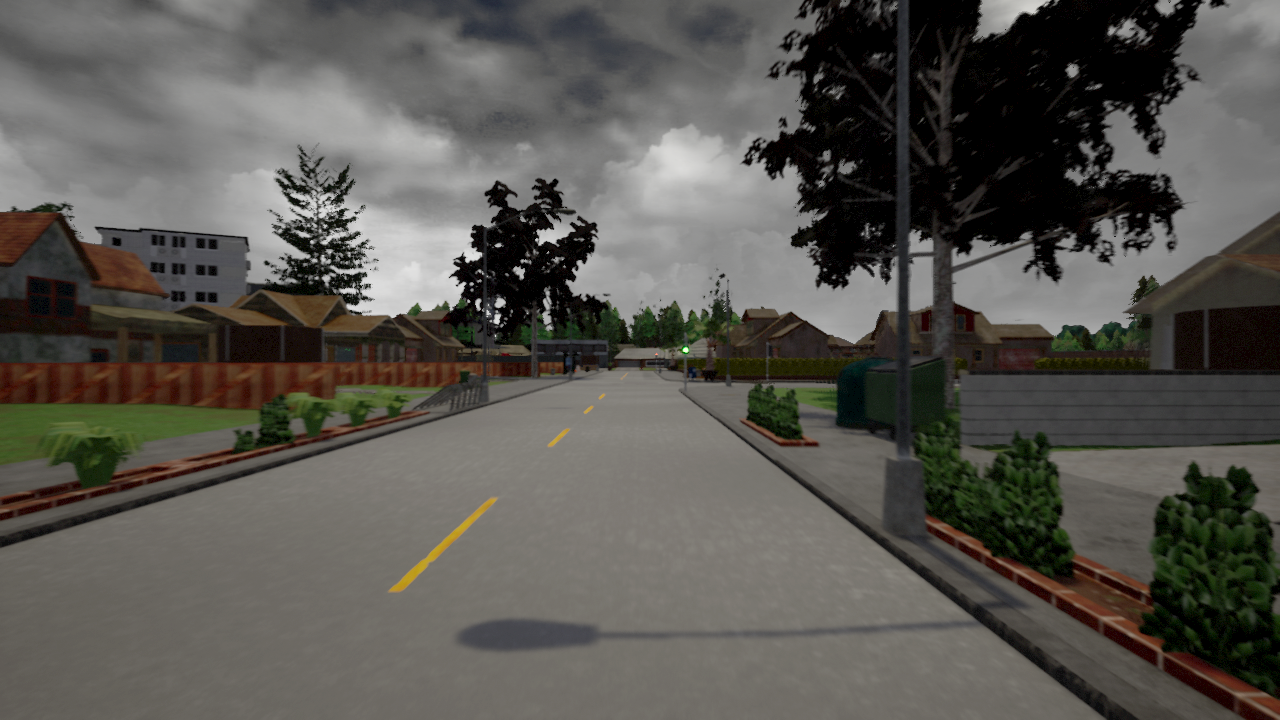green: (682, 336, 690, 356)
